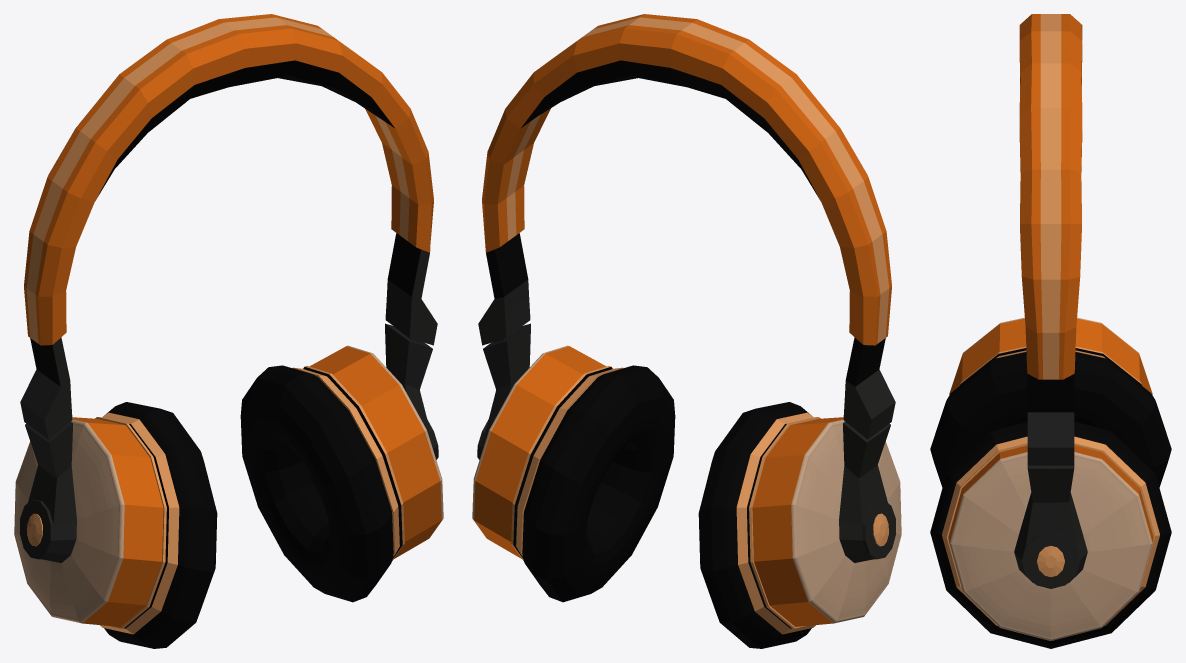
The model's file is Kopfhörer.fbx.
3 renders of one model, left to right at view 1: azimuth 30°, elevation 25°; view 2: azimuth 150°, elevation 25°; view 3: azimuth 270°, elevation 25°, orthographic. The views are drawn at different scales.
Parts seen in each view (by area): view 1: Kopfhörer; view 2: Kopfhörer; view 3: Kopfhörer.
Part boxes in pixels (x1,y1,x2,y2): Kopfhörer: [14, 14, 443, 648]; Kopfhörer: [472, 14, 901, 648]; Kopfhörer: [930, 14, 1171, 648].
Bounding box in the file's own units: 463 × 657 × 253.
